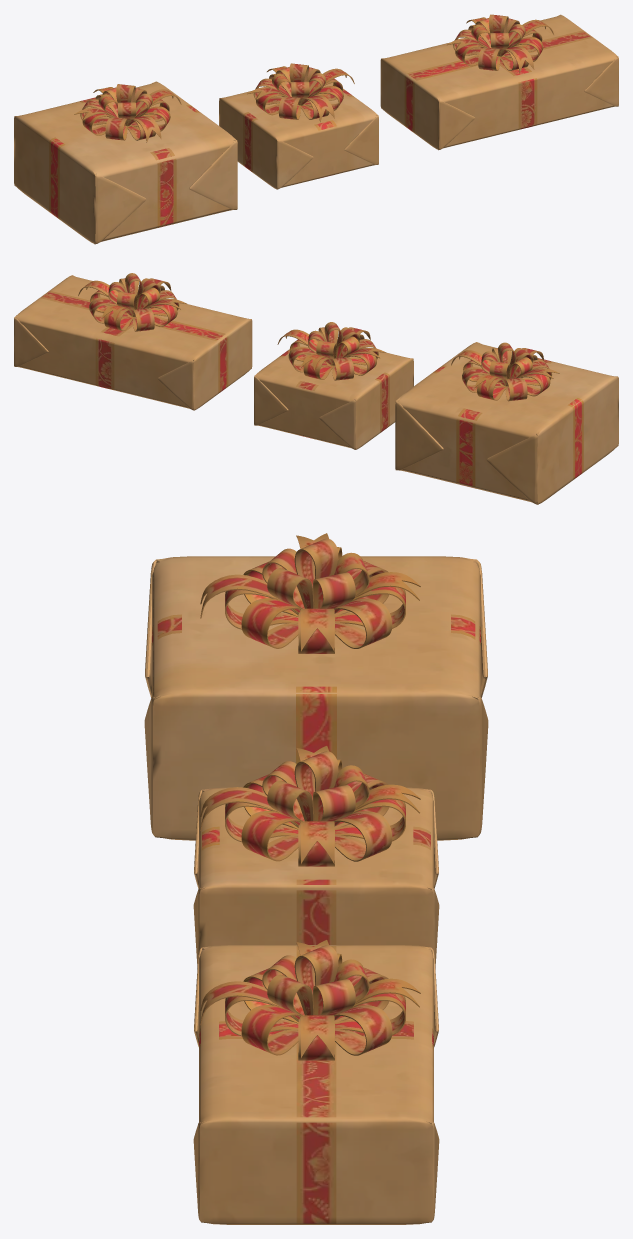
Rendered from gift_box (2).glb.
3 views of the same model, one above another, from view 1: azimuth 30°, elevation 25°; view 2: azimuth 150°, elevation 25°; view 3: azimuth 270°, elevation 25° (orthographic). The views are drawn at different scales.
Visible parts, largest first — view 1: KuJ_CT_Gift_Box_003Shape, KuJ_CT_Gift_Box_002Shape, KuJ_CT_Gift_Box_001Shape; view 2: KuJ_CT_Gift_Box_003Shape, KuJ_CT_Gift_Box_002Shape, KuJ_CT_Gift_Box_001Shape; view 3: KuJ_CT_Gift_Box_003Shape, KuJ_CT_Gift_Box_002Shape, KuJ_CT_Gift_Box_001Shape.
Boxes of the visible parts, <box> form: KuJ_CT_Gift_Box_003Shape: <box>14,81,237,244</box>; KuJ_CT_Gift_Box_002Shape: <box>380,14,618,150</box>; KuJ_CT_Gift_Box_001Shape: <box>219,63,378,189</box>; KuJ_CT_Gift_Box_003Shape: <box>395,342,618,504</box>; KuJ_CT_Gift_Box_002Shape: <box>14,273,252,410</box>; KuJ_CT_Gift_Box_001Shape: <box>254,322,413,449</box>; KuJ_CT_Gift_Box_003Shape: <box>144,533,488,840</box>; KuJ_CT_Gift_Box_002Shape: <box>193,940,439,1224</box>; KuJ_CT_Gift_Box_001Shape: <box>193,746,439,967</box>.
Bounding box in the file's own units: 2.44 × 0.4992 × 0.6775.
5 materials, 5 textured.
